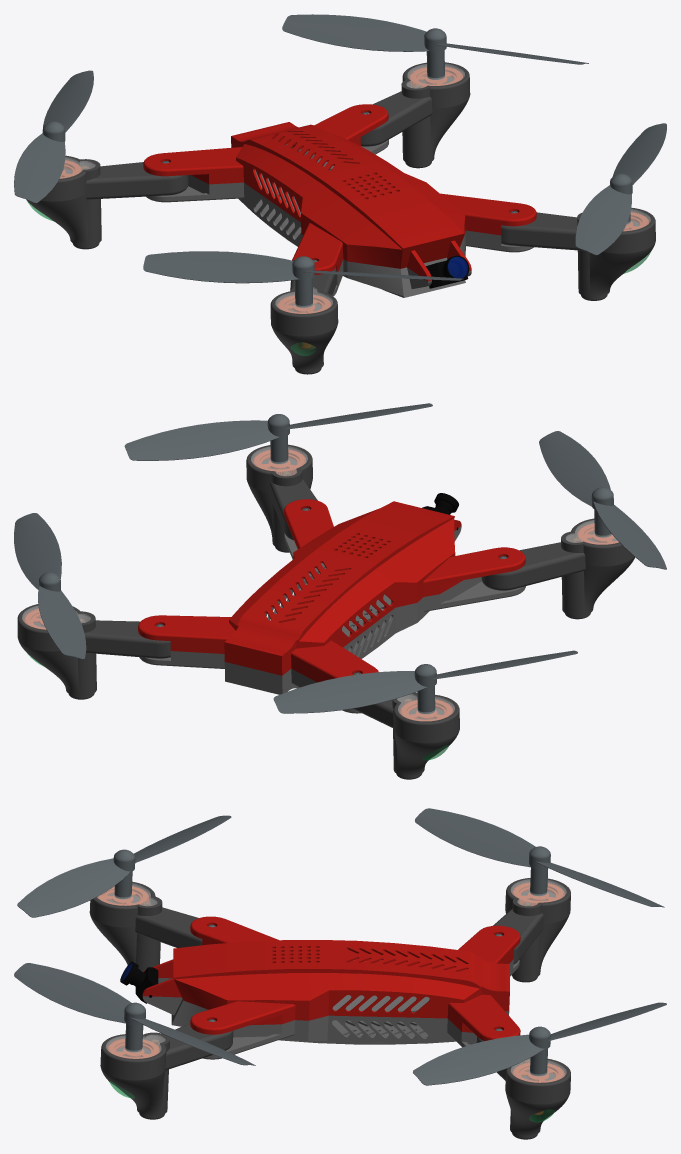
File: Drone_embedded_flatten.gltf
3 renders of one model, top to bottom at view 1: azimuth 30°, elevation 25°; view 2: azimuth 150°, elevation 25°; view 3: azimuth 270°, elevation 25°, orthographic. The views are drawn at different scales.
Parts seen in each view (by area): view 1: Solid1005, Solid1006, Solid1004, Solid1004_2_node_0, Solid1009, Solid1004_2_node_1, Solid1003, Solid1017, Solid1013, Solid1004_2_node, Solid1001, Solid1004_3_node (+2 smaller); view 2: Solid1005, Solid1006, Solid1004_2_node, Solid1004, Solid1017, Solid1013, Solid1009, Solid1003, Solid1004_2_node_0, Solid1004_2_node_1, Solid1004_3_node_1, Solid1004_3_node_0 (+3 smaller); view 3: Solid1005, Solid1006, Solid1013, Solid1003, Solid1017, Solid1009, Solid1004_2_node_1, Solid1004_2_node, Solid1004_2_node_0, Solid1004, Solid1004_3_node_0, Solid1004_3_node_1 (+6 smaller).
Boxes of the visible parts, box(x1,y1,x2,y2) form: Solid1005: box(143, 104, 536, 281); Solid1006: box(146, 139, 533, 297); Solid1004: box(360, 62, 470, 168); Solid1004_2_node_0: box(26, 155, 188, 249); Solid1009: box(143, 251, 463, 307); Solid1004_2_node_1: box(501, 207, 655, 300); Solid1003: box(282, 14, 588, 79); Solid1017: box(575, 123, 666, 255); Solid1013: box(14, 70, 93, 203); Solid1004_2_node: box(270, 268, 338, 374); Solid1001: box(423, 255, 469, 288); Solid1004_3_node: box(275, 287, 332, 313); Solid1005: box(138, 499, 525, 682); Solid1006: box(139, 526, 525, 713); Solid1004_2_node: box(481, 518, 634, 619); Solid1004: box(17, 604, 170, 699); Solid1017: box(124, 403, 432, 464); Solid1013: box(273, 650, 577, 714); Solid1009: box(539, 431, 666, 569); Solid1003: box(14, 513, 86, 659); Solid1004_2_node_0: box(353, 692, 459, 779); Solid1004_2_node_1: box(246, 444, 317, 552); Solid1004_3_node_1: box(251, 446, 307, 475); Solid1004_3_node_0: box(397, 694, 454, 720); Solid1005: box(142, 916, 520, 1040); Solid1006: box(142, 959, 519, 1059); Solid1013: box(415, 808, 664, 907); Solid1003: box(413, 1002, 666, 1085); Solid1017: box(14, 963, 255, 1065); Solid1009: box(17, 815, 231, 917); Solid1004_2_node_1: box(100, 1023, 233, 1119); Solid1004_2_node: box(89, 881, 202, 972); Solid1004_2_node_0: box(493, 878, 570, 982); Solid1004: box(476, 1036, 570, 1139); Solid1004_3_node_0: box(511, 879, 566, 905); Solid1004_3_node_1: box(106, 1035, 165, 1058).
Size of the model in its own units: 0.2937 by 0.0672 by 0.3003.
